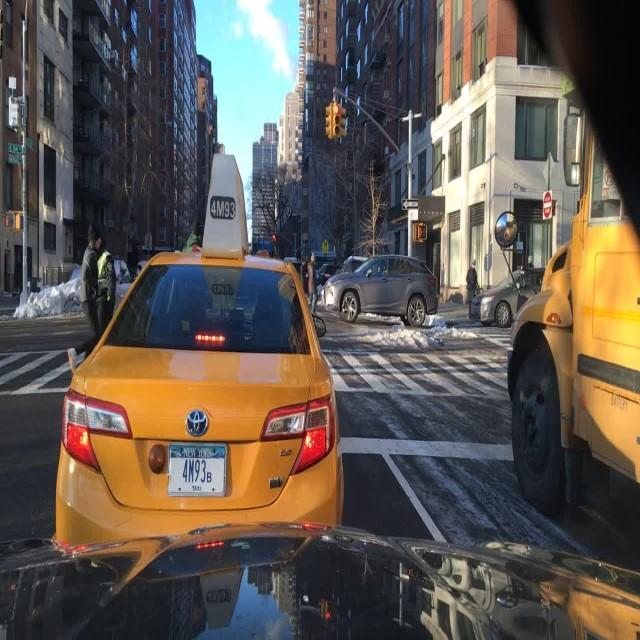normal: (36, 119, 382, 597)
